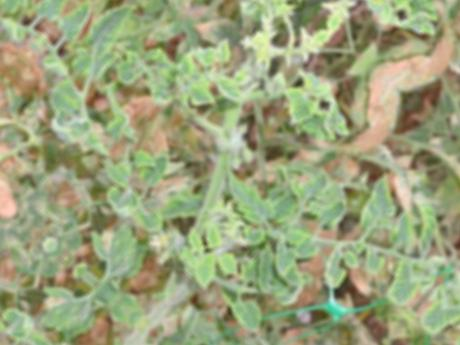Tomato leaf yellow virus: (171, 72, 230, 127), (206, 65, 256, 112), (182, 249, 229, 295), (277, 86, 322, 134), (193, 219, 239, 263)
